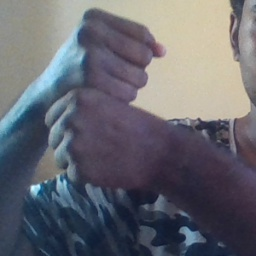G: (47, 7, 171, 192)
